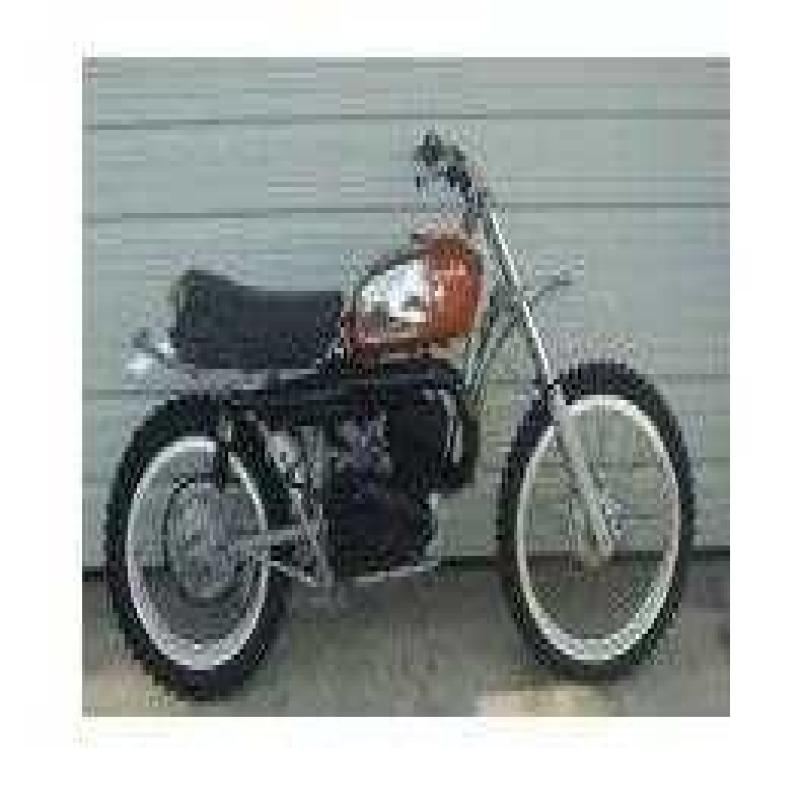bike: (106, 90, 694, 691)
